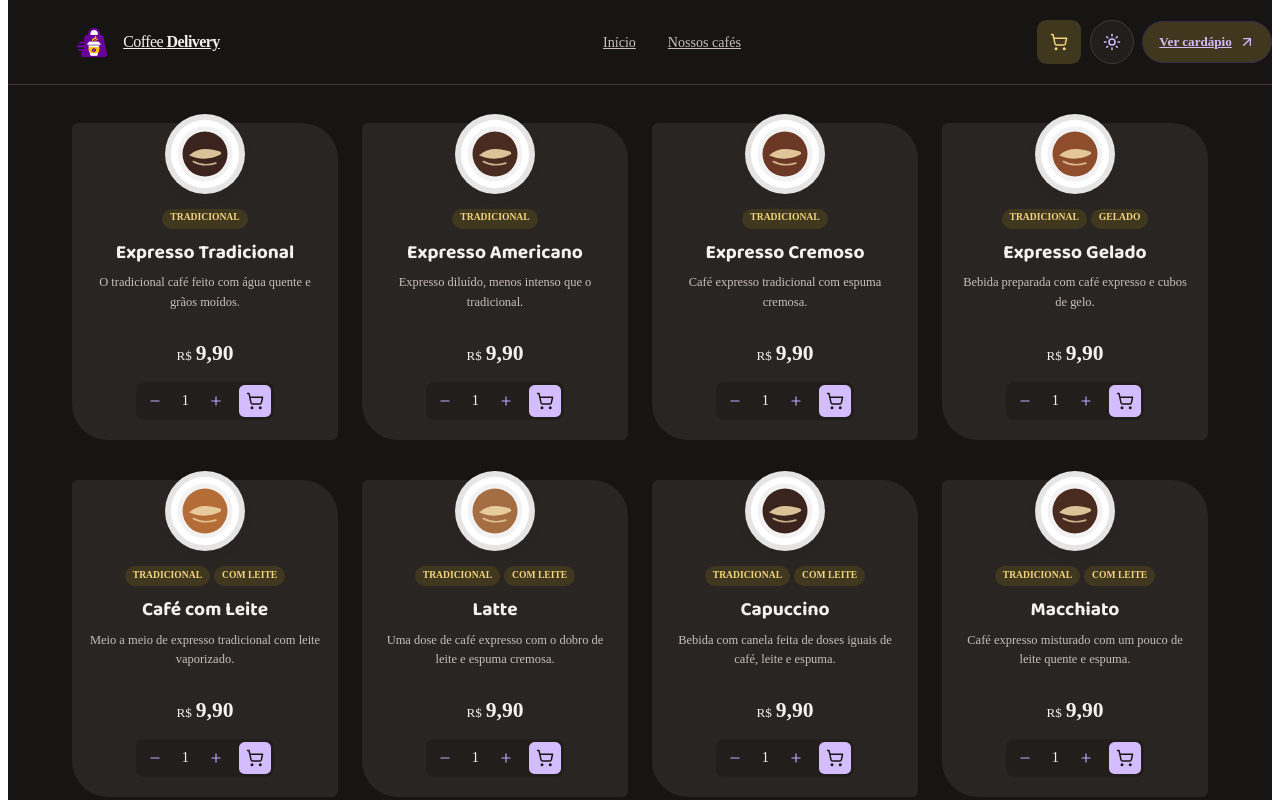
Test case: Home › adds a selected quantity and updates the cart badge
(page scrolled)
Click the button named "Aumentar quantidade de Expresso Tradicional" at (216, 401), box [200,385,232,417]
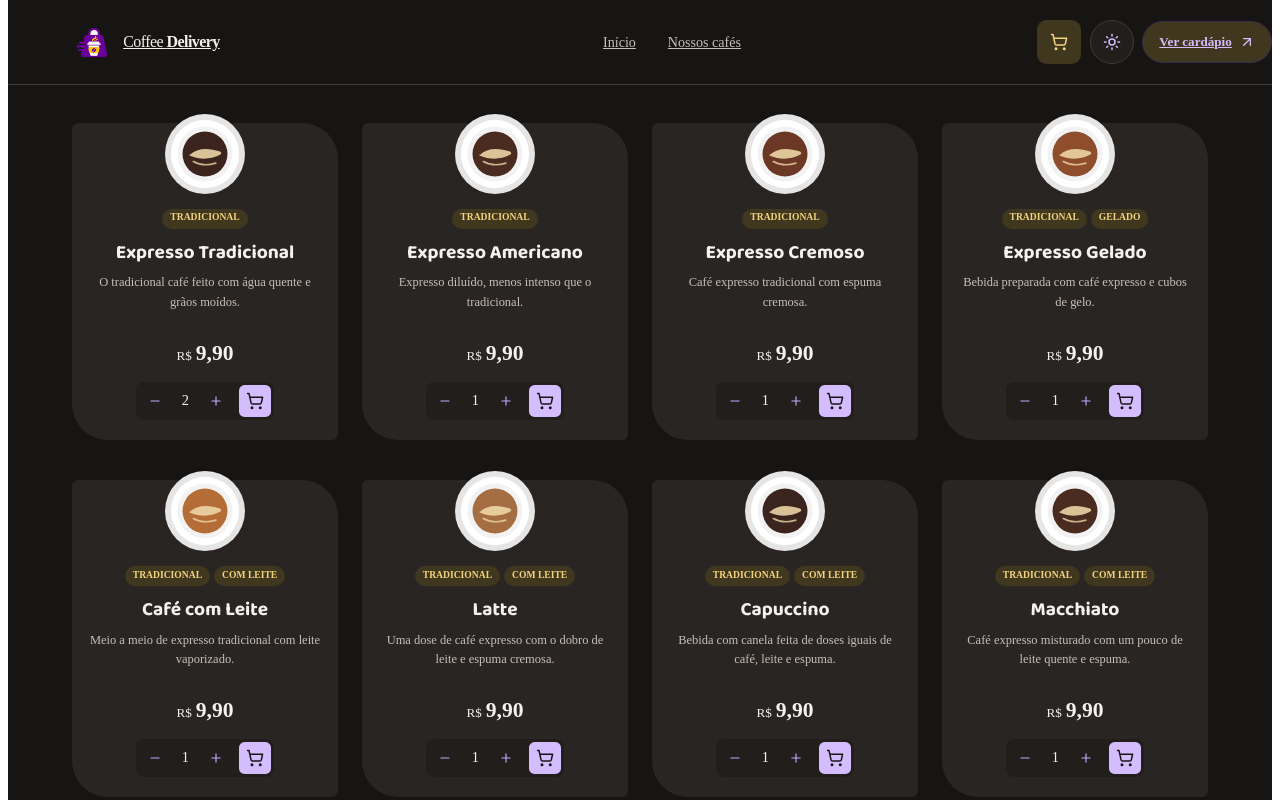
Click the button named "Adicionar 2 Expresso Tradicional ao carrinho" at (255, 401), box [239,385,271,417]
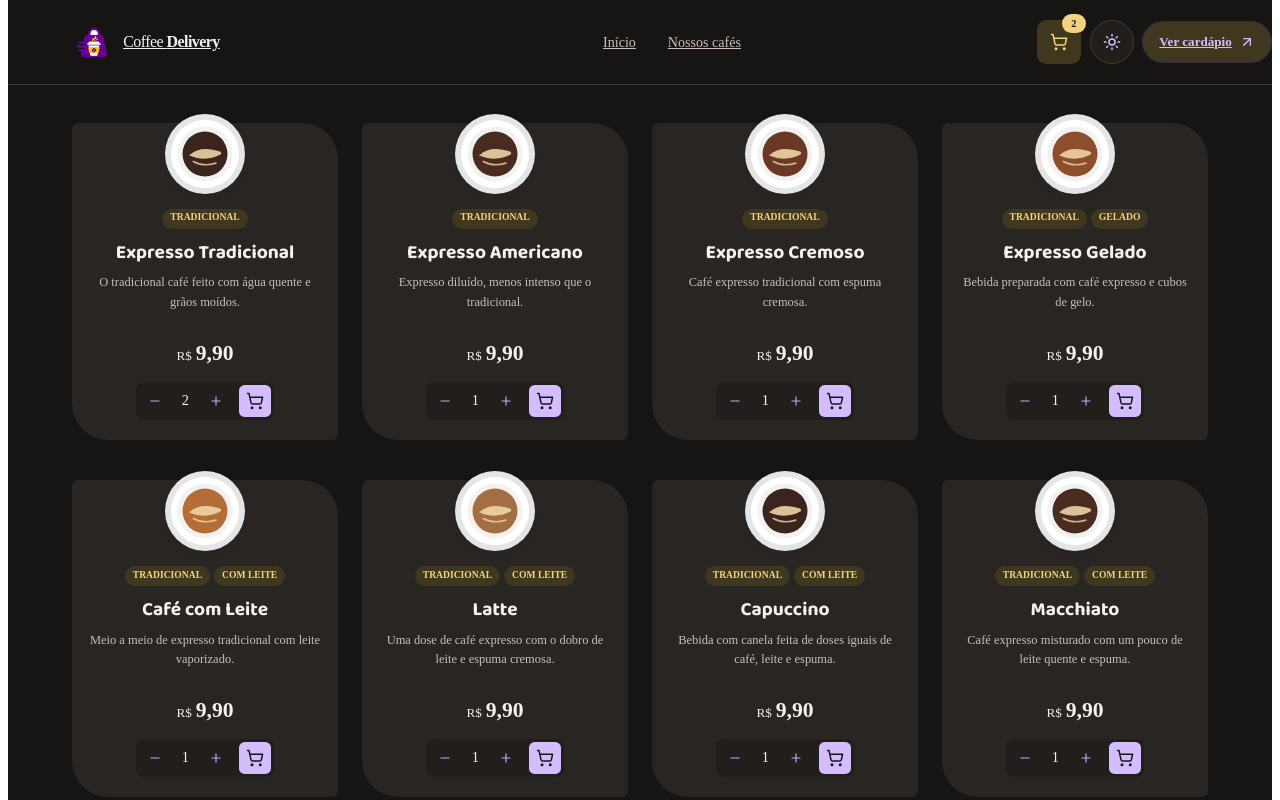
expect the link named "Carrinho, 2 unidades" is shown: met, box [1037,20,1081,64]
